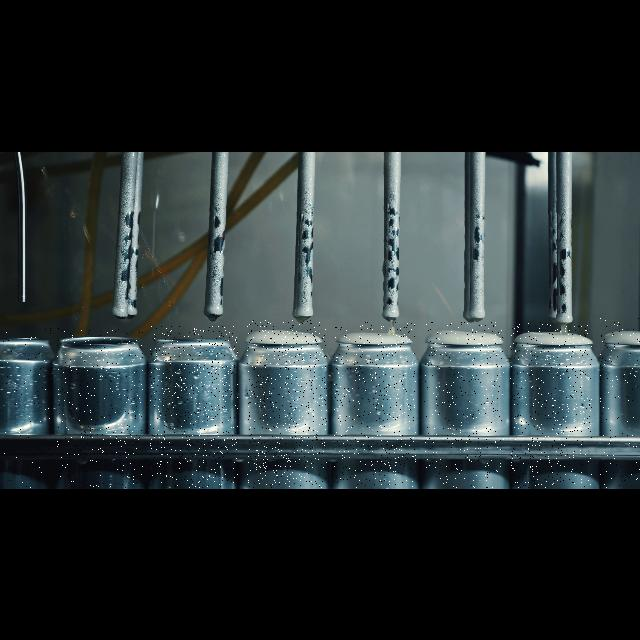empty: (150, 326, 238, 488), (57, 328, 143, 488), (3, 328, 51, 488)
full: (334, 322, 416, 488), (510, 322, 592, 488), (247, 320, 327, 488), (424, 322, 504, 488), (600, 318, 640, 488)
